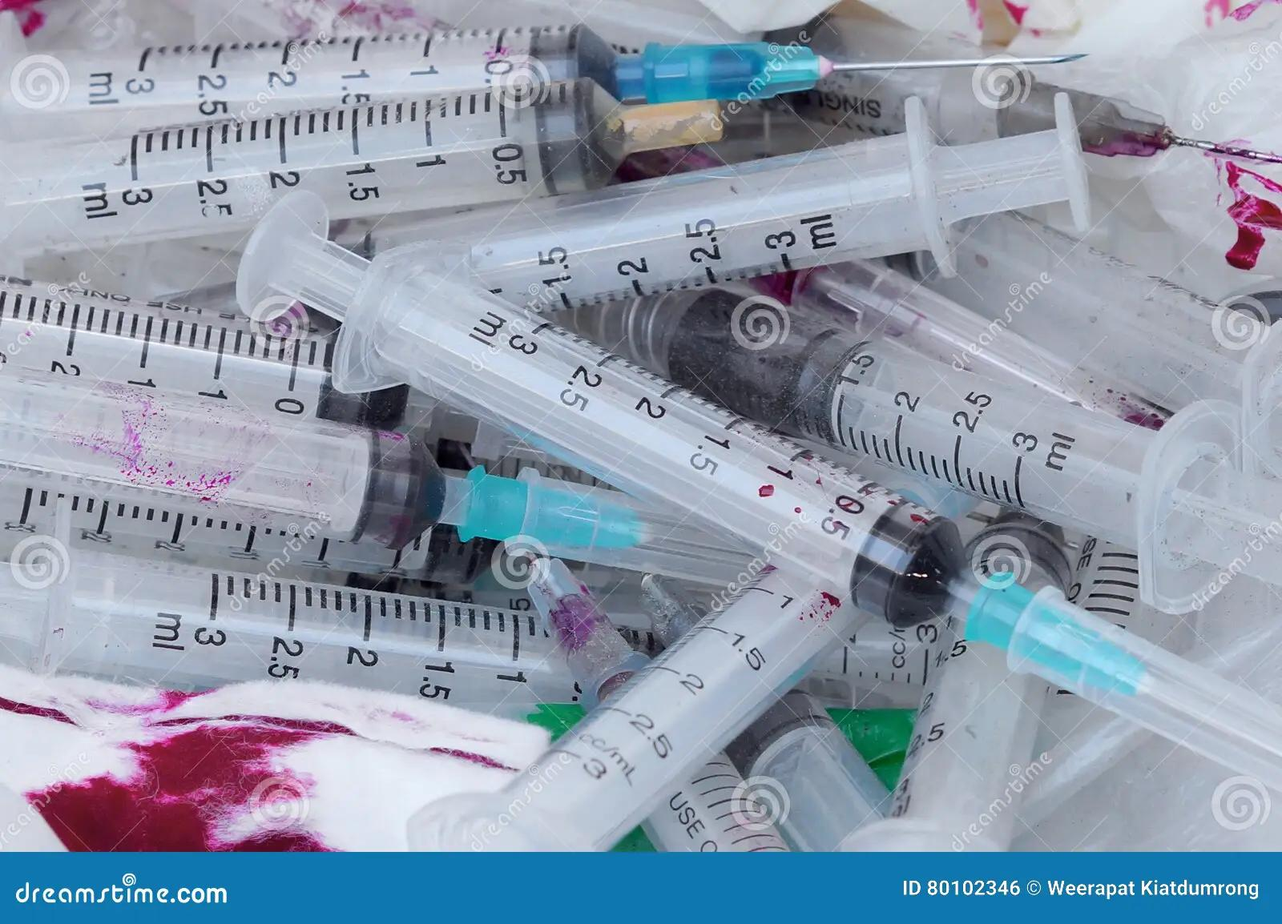Syringe: (238, 194, 1281, 785), (238, 194, 960, 625), (611, 288, 1281, 611), (373, 97, 1086, 310), (0, 378, 750, 573), (408, 571, 857, 850), (0, 79, 716, 252), (0, 539, 579, 717), (0, 18, 843, 139), (0, 467, 750, 583), (896, 213, 1266, 411), (792, 16, 1277, 162), (788, 260, 1165, 424), (0, 277, 407, 428), (842, 620, 1048, 850), (726, 689, 889, 851), (726, 689, 888, 851), (642, 753, 788, 851), (797, 621, 944, 707)
